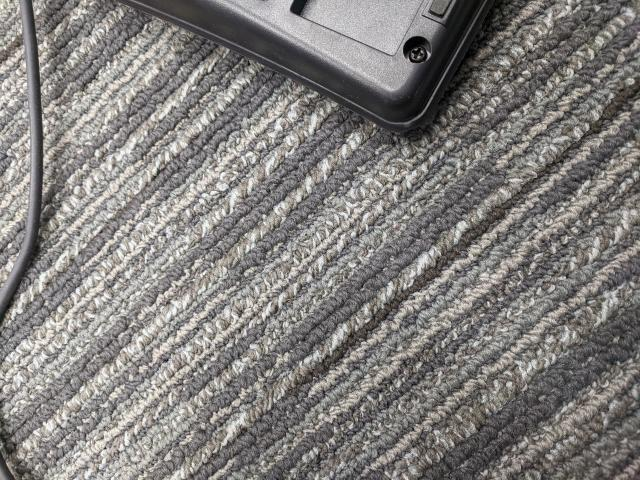CRS: (407, 42, 427, 64)
